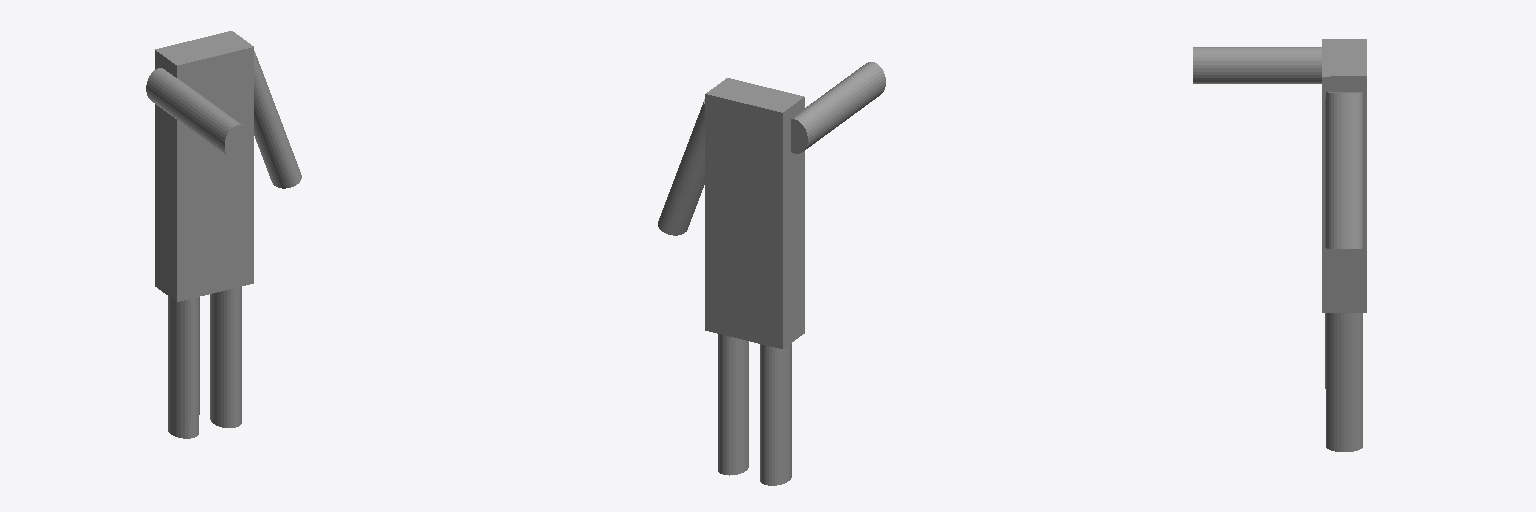
The model's file is player.obj.
The picture shows the model from 3 angles: view 1: azimuth 30°, elevation 25°; view 2: azimuth 150°, elevation 25°; view 3: azimuth 270°, elevation 25°; orthographic projection.
Visible parts, largest first — view 1: Cube; view 2: Cube; view 3: Cube.
Part boxes in pixels (x1,y1,x2,y2): Cube: (146,31,301,438); Cube: (658,62,885,485); Cube: (1193,39,1366,451).
Size of the model in its own units: 0.1168 by 0.2821 by 0.1173.